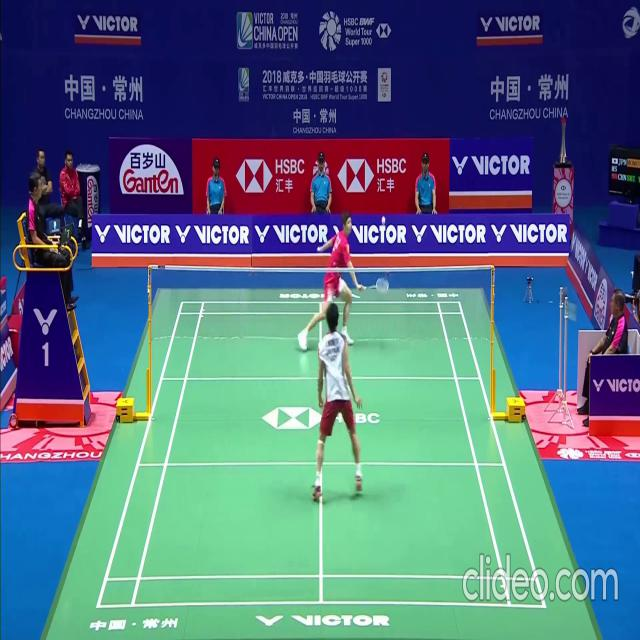Shuttlecock: (381, 216, 386, 224)
